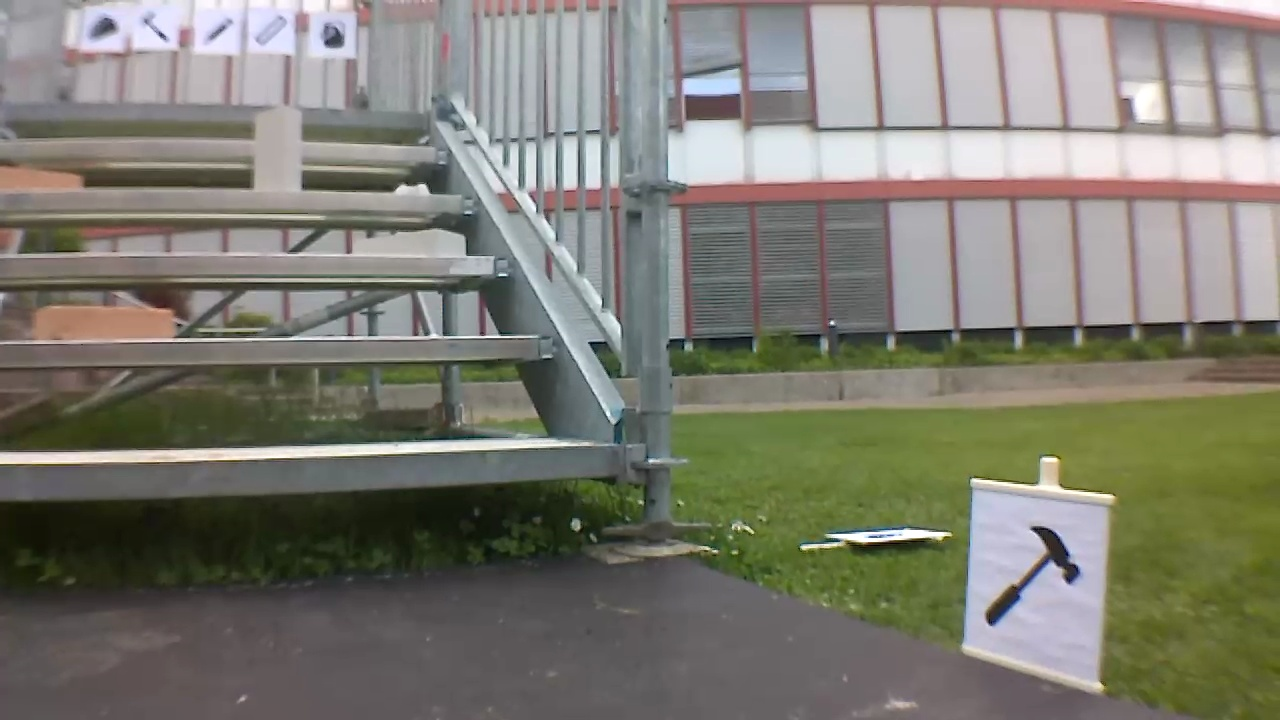brick: (35, 305, 172, 339), (256, 107, 299, 192), (353, 228, 464, 257), (2, 166, 79, 191)
bucket: (316, 17, 346, 52)
hammer: (979, 518, 1090, 641), (132, 9, 176, 47)
pencil: (197, 11, 234, 49)
ruler: (252, 11, 290, 49)
stairs: (2, 1, 712, 561)
steps: (3, 96, 623, 504)
taco: (82, 11, 119, 44)
